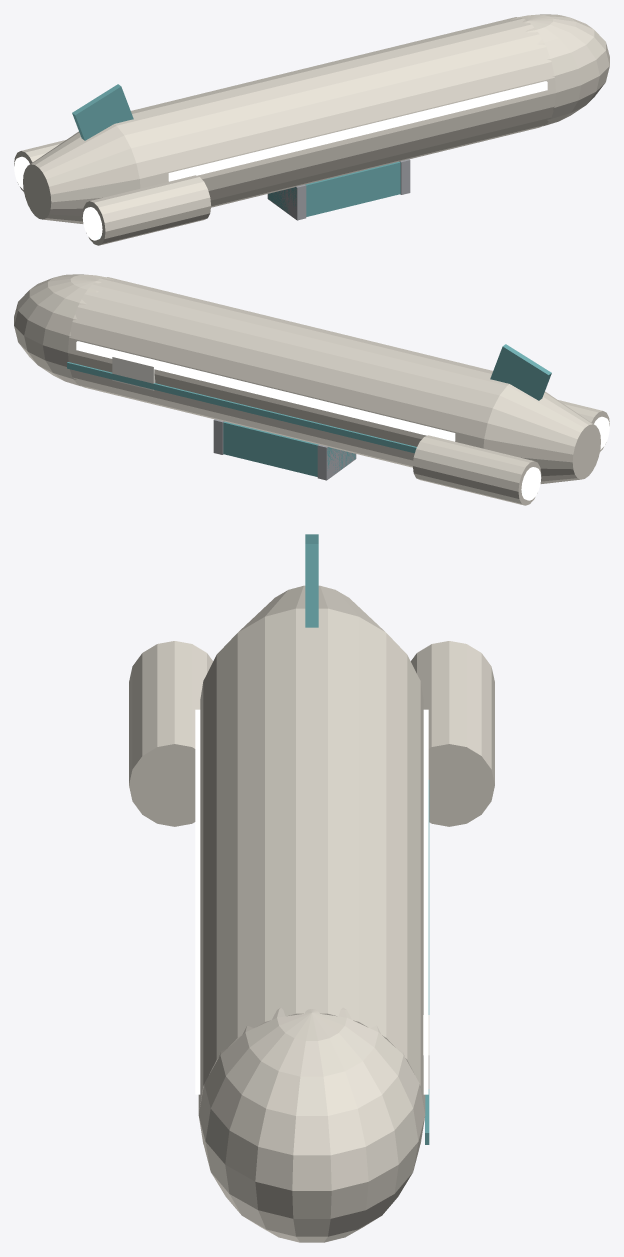
The model's file is liner_shuttle.glb.
3 renders of one model, top to bottom at view 1: azimuth 30°, elevation 25°; view 2: azimuth 150°, elevation 25°; view 3: azimuth 270°, elevation 25°, orthographic. The views are drawn at different scales.
Visible parts, largest first — view 1: lnr_fuselage, lnr_tail, lnr_nose, lnr_nacelle-3, lnr_windows_s, lnr_pannier_body, lnr_fin, lnr_pannier_frame2, lnr_nacelle_glow-3, lnr_nacelle+3, lnr_pannier_frame; view 2: lnr_fuselage, lnr_tail, lnr_nose, lnr_nacelle+3, lnr_windows_p, lnr_pannier_body, lnr_accent, lnr_fin, lnr_pannier_frame2, lnr_mark, lnr_nacelle_glow+3, lnr_nacelle-3 (+1 smaller); view 3: lnr_fuselage, lnr_nose, lnr_nacelle-3, lnr_nacelle+3, lnr_windows_p, lnr_windows_s, lnr_tail, lnr_fin.
Part boxes in pixels (bbox=[...]): lnr_fuselage: bbox=[115, 17, 555, 207]; lnr_tail: bbox=[23, 124, 140, 223]; lnr_nose: bbox=[510, 14, 609, 126]; lnr_nacelle-3: bbox=[82, 175, 210, 245]; lnr_windows_s: bbox=[168, 81, 547, 181]; lnr_pannier_body: bbox=[268, 161, 400, 216]; lnr_fin: bbox=[72, 84, 133, 140]; lnr_pannier_frame2: bbox=[267, 184, 306, 220]; lnr_nacelle_glow-3: bbox=[82, 207, 102, 240]; lnr_nacelle+3: bbox=[14, 140, 65, 191]; lnr_pannier_frame: bbox=[399, 159, 410, 194]; lnr_fuselage: bbox=[68, 277, 508, 467]; lnr_tail: bbox=[483, 384, 600, 483]; lnr_nose: bbox=[14, 274, 113, 386]; lnr_nacelle+3: bbox=[413, 435, 541, 505]; lnr_windows_p: bbox=[76, 341, 455, 441]; lnr_pannier_body: bbox=[223, 421, 355, 476]; lnr_accent: bbox=[67, 362, 416, 453]; lnr_fin: bbox=[490, 344, 551, 400]; lnr_pannier_frame2: bbox=[317, 444, 356, 480]; lnr_mark: bbox=[112, 357, 155, 390]; lnr_nacelle_glow+3: bbox=[521, 467, 541, 500]; lnr_nacelle-3: bbox=[558, 400, 609, 451]; lnr_fuselage: bbox=[198, 608, 425, 1144]; lnr_nose: bbox=[198, 1007, 425, 1242]; lnr_nacelle-3: bbox=[129, 641, 212, 826]; lnr_nacelle+3: bbox=[411, 641, 494, 826]; lnr_windows_p: bbox=[423, 709, 428, 1094]; lnr_windows_s: bbox=[195, 709, 200, 1094]; lnr_tail: bbox=[239, 585, 384, 631]; lnr_fin: bbox=[305, 534, 318, 627].
Bounding box in the file's own units: 30.1 × 8.32 × 8.4.
